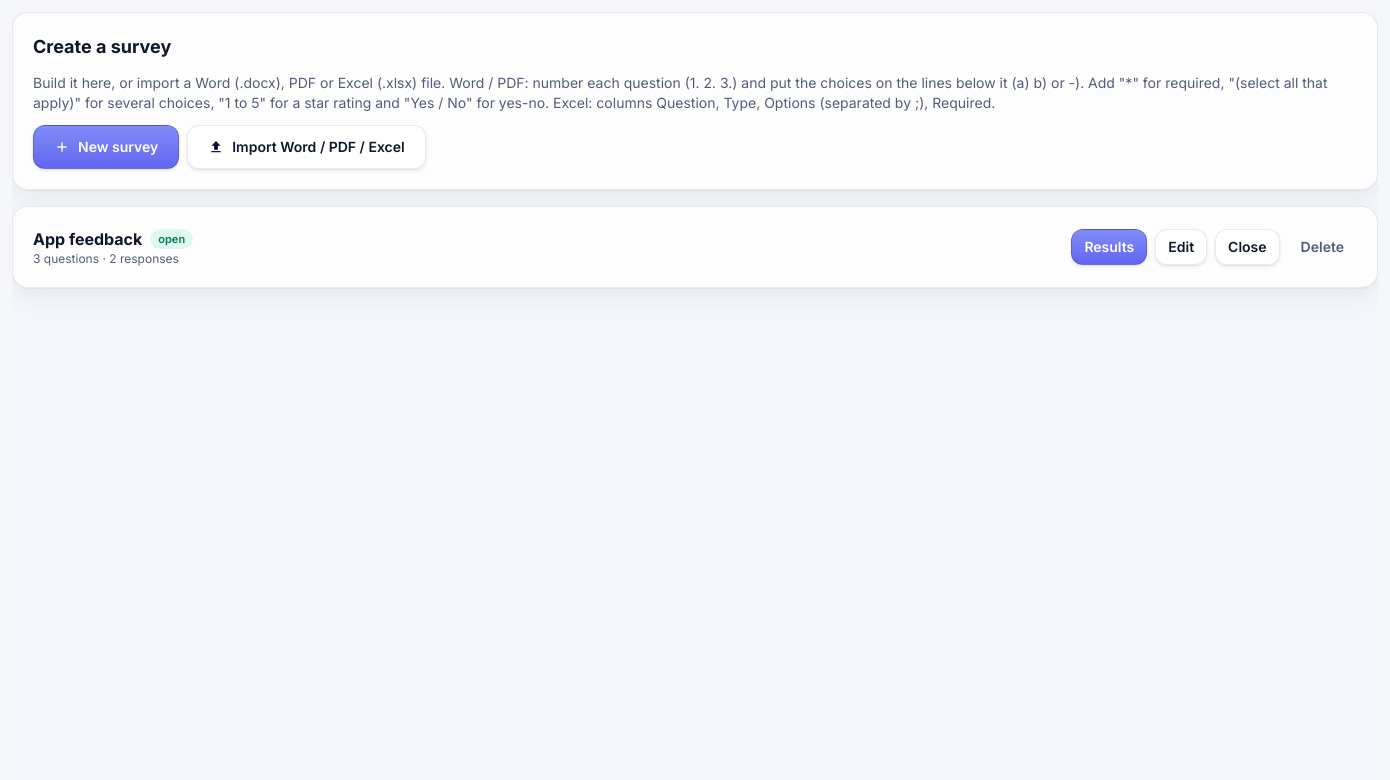
Admin surveys › results show charts with counts and the rating average
The width and height of the screenshot is (1390, 780).
What coordinates should you click on to do the following:
click the button "Results"
I would click on:
 (1109, 247)
Its box is [1071,229,1147,265].
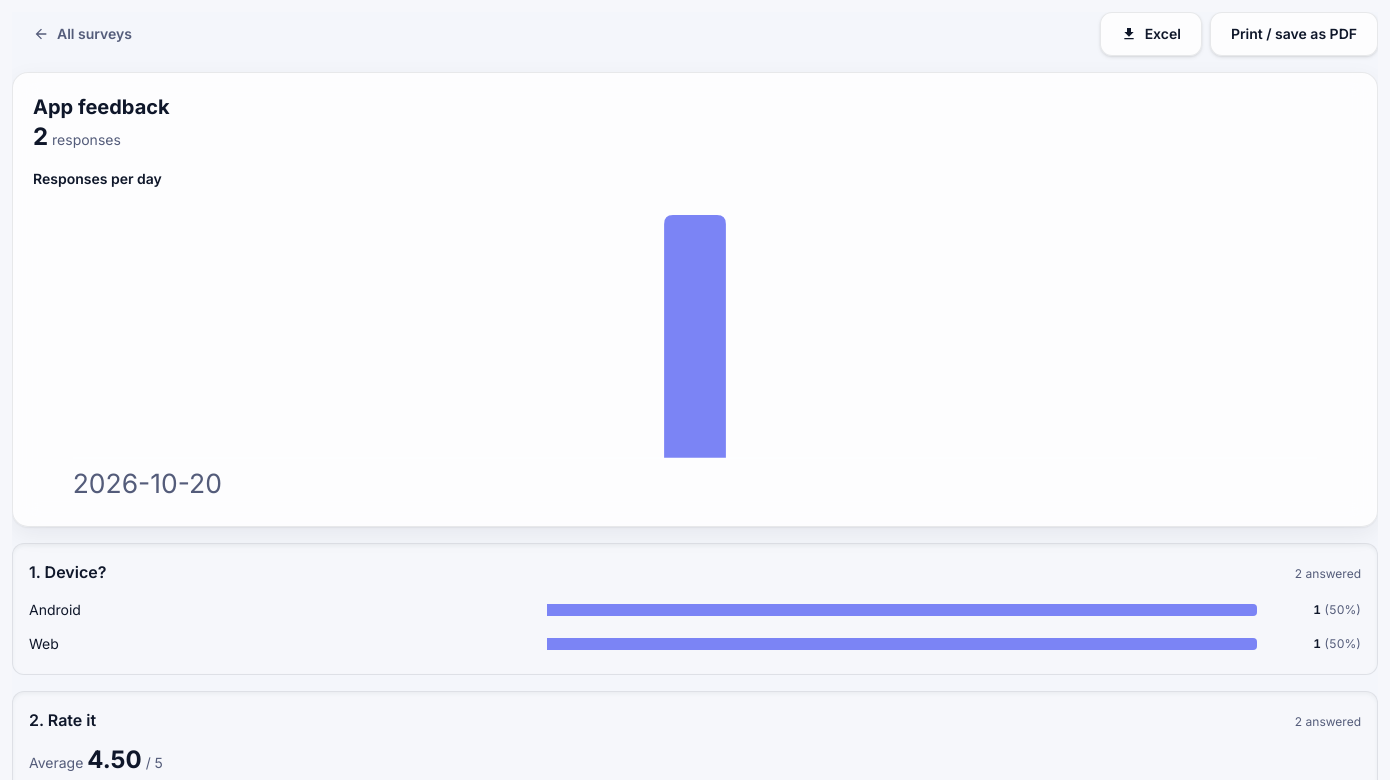
Check: the button "Excel" is shown, box [1100,12,1202,56]
Check: the element with test id "column-chart" is shown, box [33,193,1357,506]
